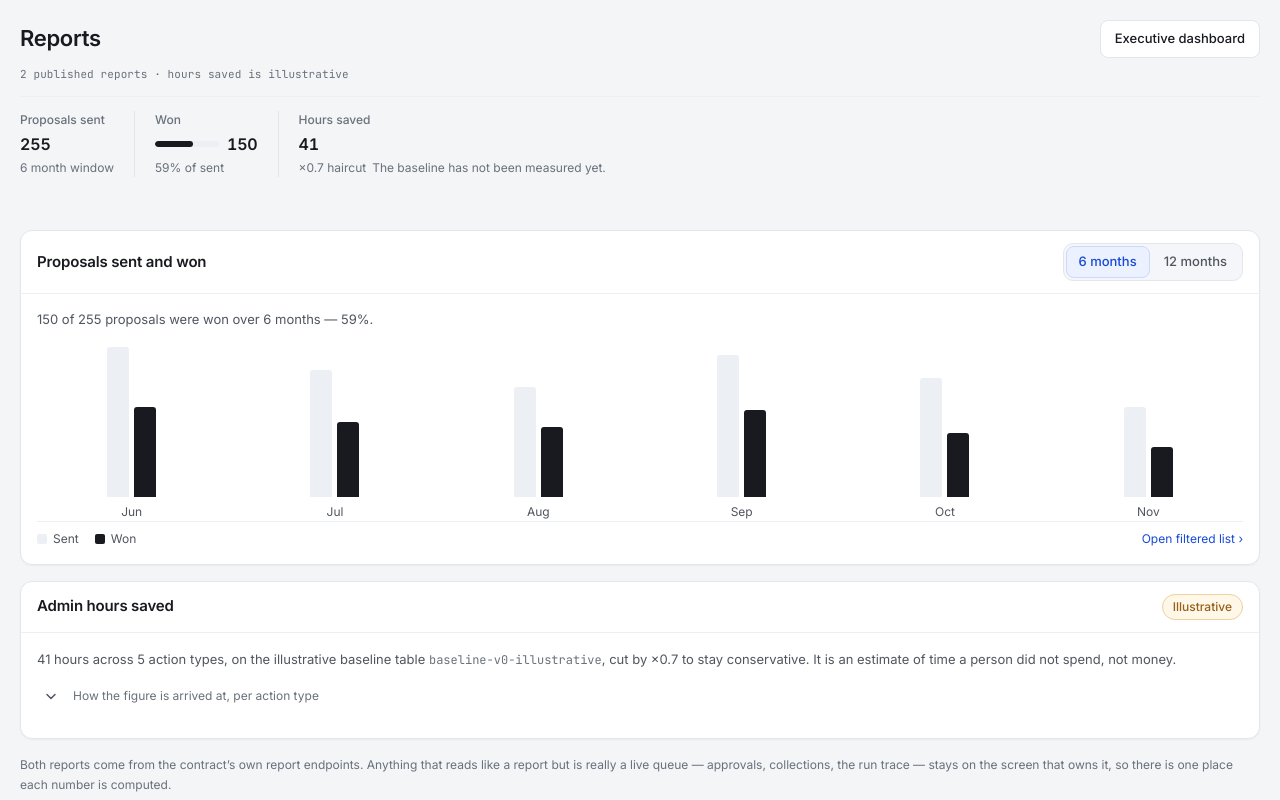
Test: /reports › keeps the per-action-type arithmetic behind a disclosure
Expected: the heading "Admin hours saved" is shown, [37,595,174,618]
What coordinates should you click on to do the following:
click the button named "the working behind the figure"
I would click on:
 (51, 696)
Its box is [37,682,65,710].
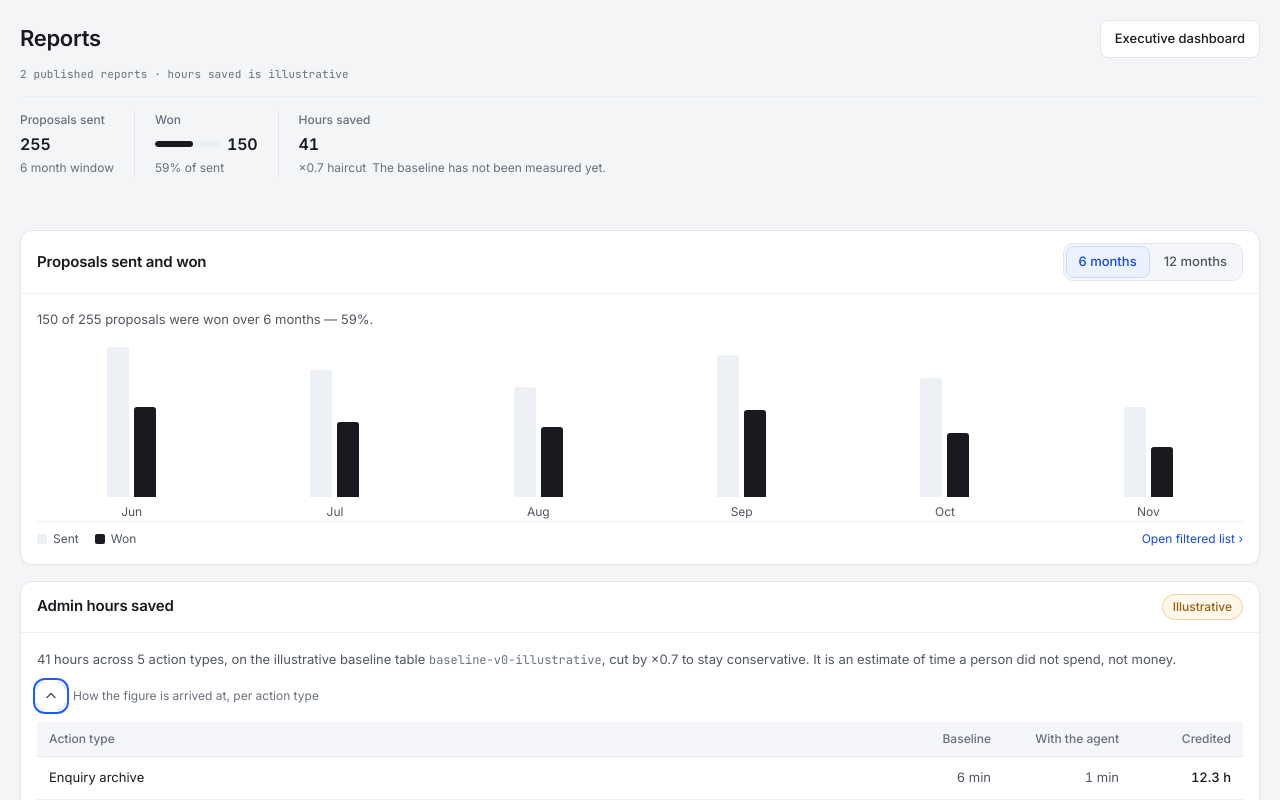
Expected: the button named "the working behind the figure" is expanded, [37,682,65,710]
